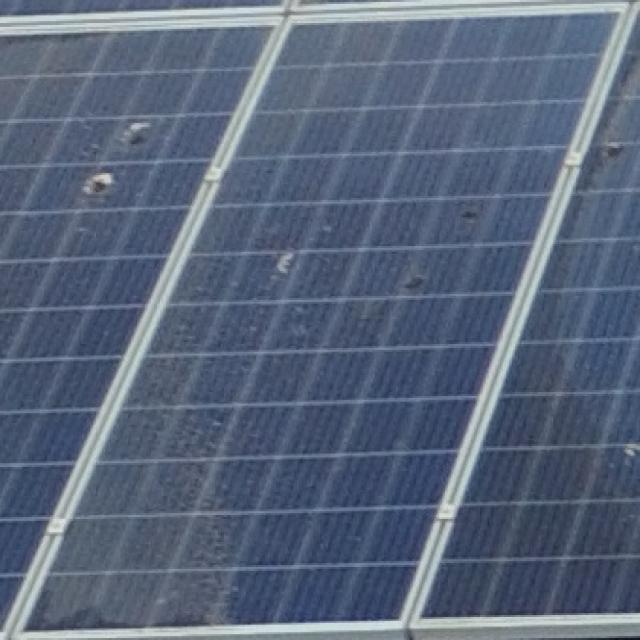Dust: (14, 325, 250, 640), (419, 321, 629, 640), (576, 0, 640, 256)
bird-droppings: (79, 166, 114, 202), (116, 115, 154, 147), (270, 244, 300, 278), (398, 270, 432, 296), (454, 202, 484, 230), (603, 141, 629, 166)
